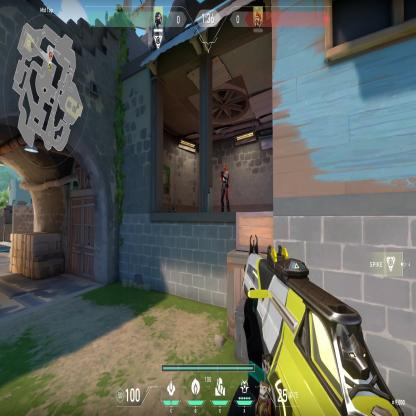enemy: (219, 160, 231, 214)
